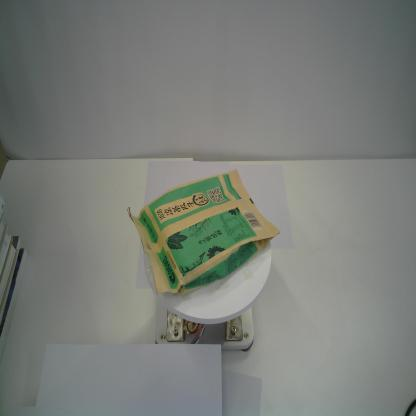Dried Food: (126, 168, 281, 298)
